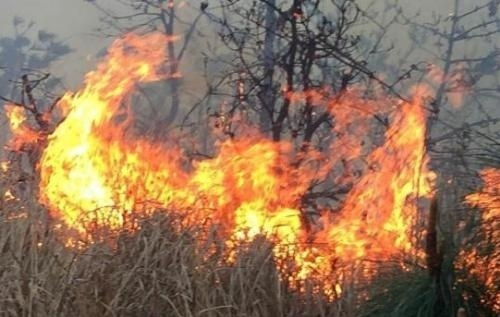fire: (53, 50, 465, 287)
